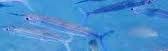sayori: (9, 7, 106, 43)
